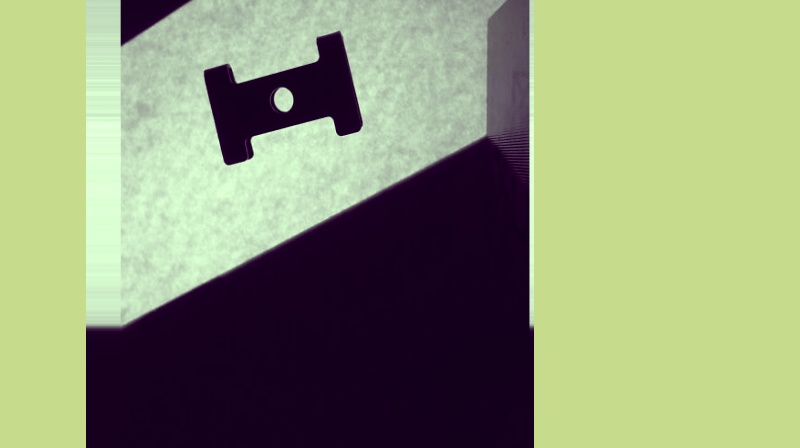O002: (202, 27, 366, 168)
